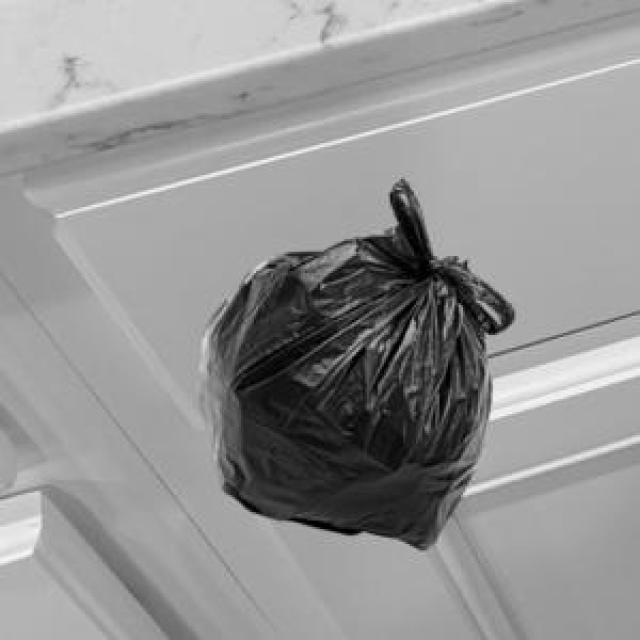miscellaneous trash: (194, 175, 510, 546)
